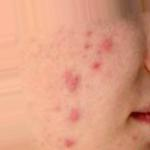Acne: (50, 72, 84, 90), (75, 25, 94, 53), (47, 98, 64, 115), (98, 37, 116, 52), (68, 110, 81, 123), (90, 57, 102, 69), (65, 137, 77, 149), (0, 0, 34, 3)
